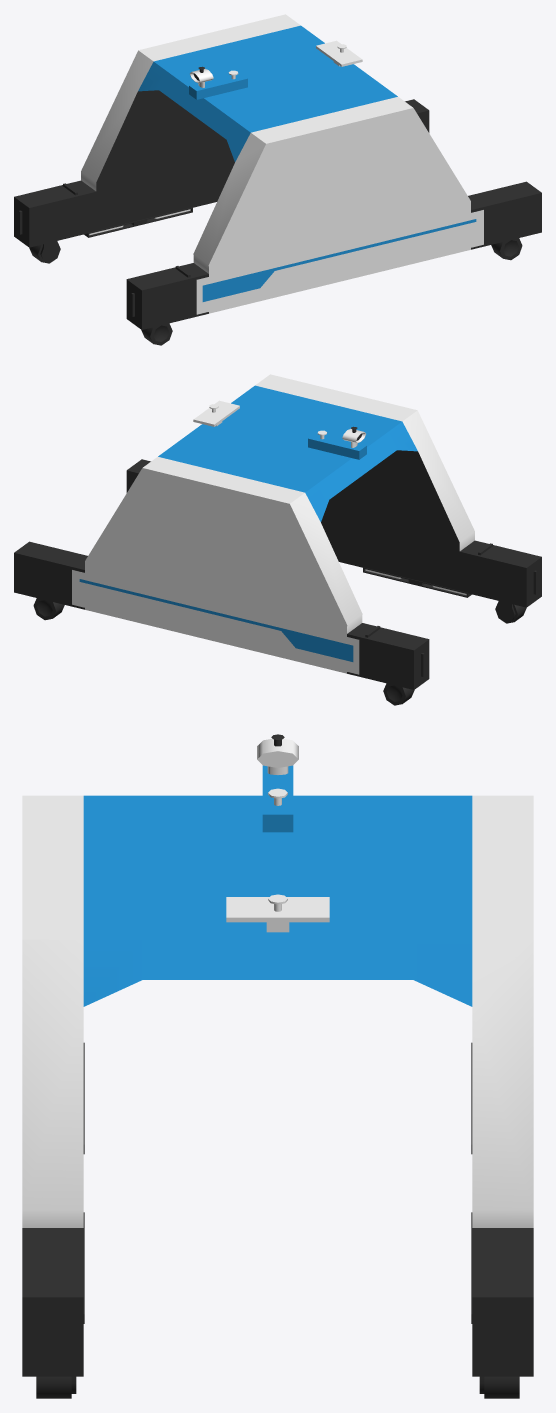
File: agv.glb
3 views of the same model, one above another, from view 1: azimuth 30°, elevation 25°; view 2: azimuth 150°, elevation 25°; view 3: azimuth 270°, elevation 25° (orthographic). The views are drawn at different scales.
Parts seen in each view (by area): view 1: ytg_zx_gk_agvc_01; view 2: ytg_zx_gk_agvc_01; view 3: ytg_zx_gk_agvc_01.
Part boxes in pixels (<box>): ytg_zx_gk_agvc_01: <box>14,14,541,345</box>; ytg_zx_gk_agvc_01: <box>14,374,541,705</box>; ytg_zx_gk_agvc_01: <box>22,734,533,1398</box>.
Size of the model in its own units: 5.31 by 2.64 by 2.96.
3 materials, 1 textured.
